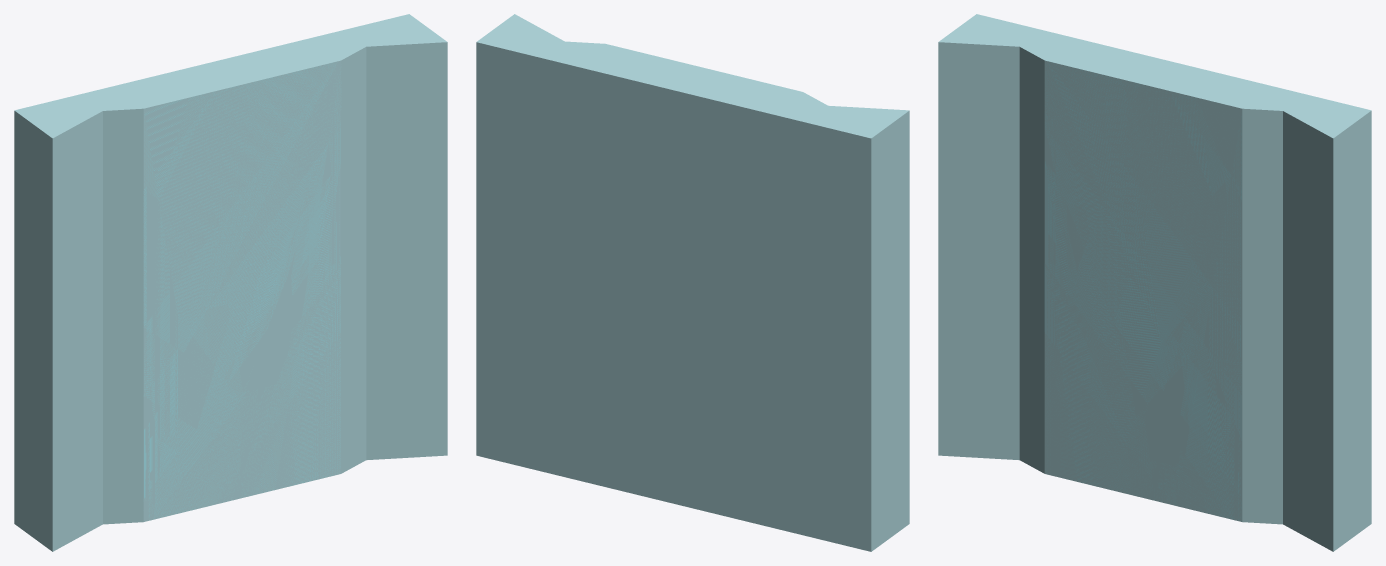
Rendered from cliff_waterfall_stone.obj.
3 views of the same model, side by side, from view 1: azimuth 30°, elevation 25°; view 2: azimuth 150°, elevation 25°; view 3: azimuth 330°, elevation 25° (orthographic).
Parts seen in each view (by area): view 1: cliff_waterfall_stone; view 2: cliff_waterfall_stone; view 3: cliff_waterfall_stone.
Part boxes in pixels (<box>): cliff_waterfall_stone: <box>14,14,447,551</box>; cliff_waterfall_stone: <box>476,14,909,551</box>; cliff_waterfall_stone: <box>938,14,1371,551</box>.
Size of the model in its own units: 1 by 1 by 0.1685.
